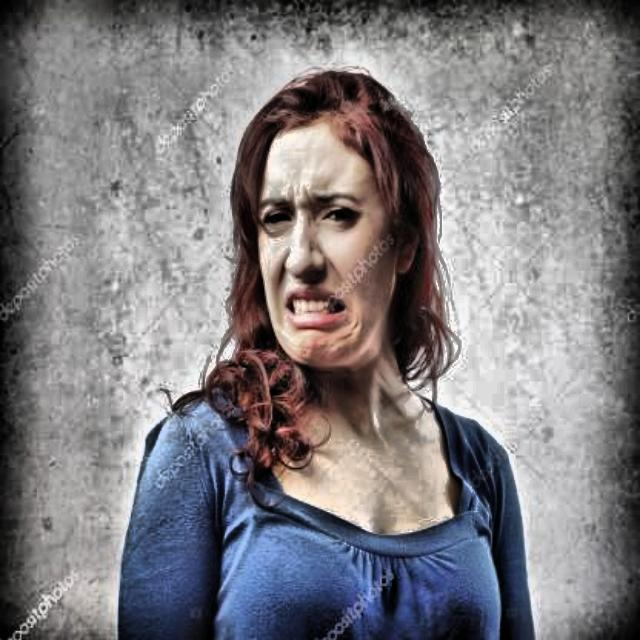disgust: (211, 62, 466, 371)
